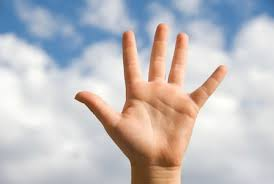palm: (73, 20, 229, 174)
